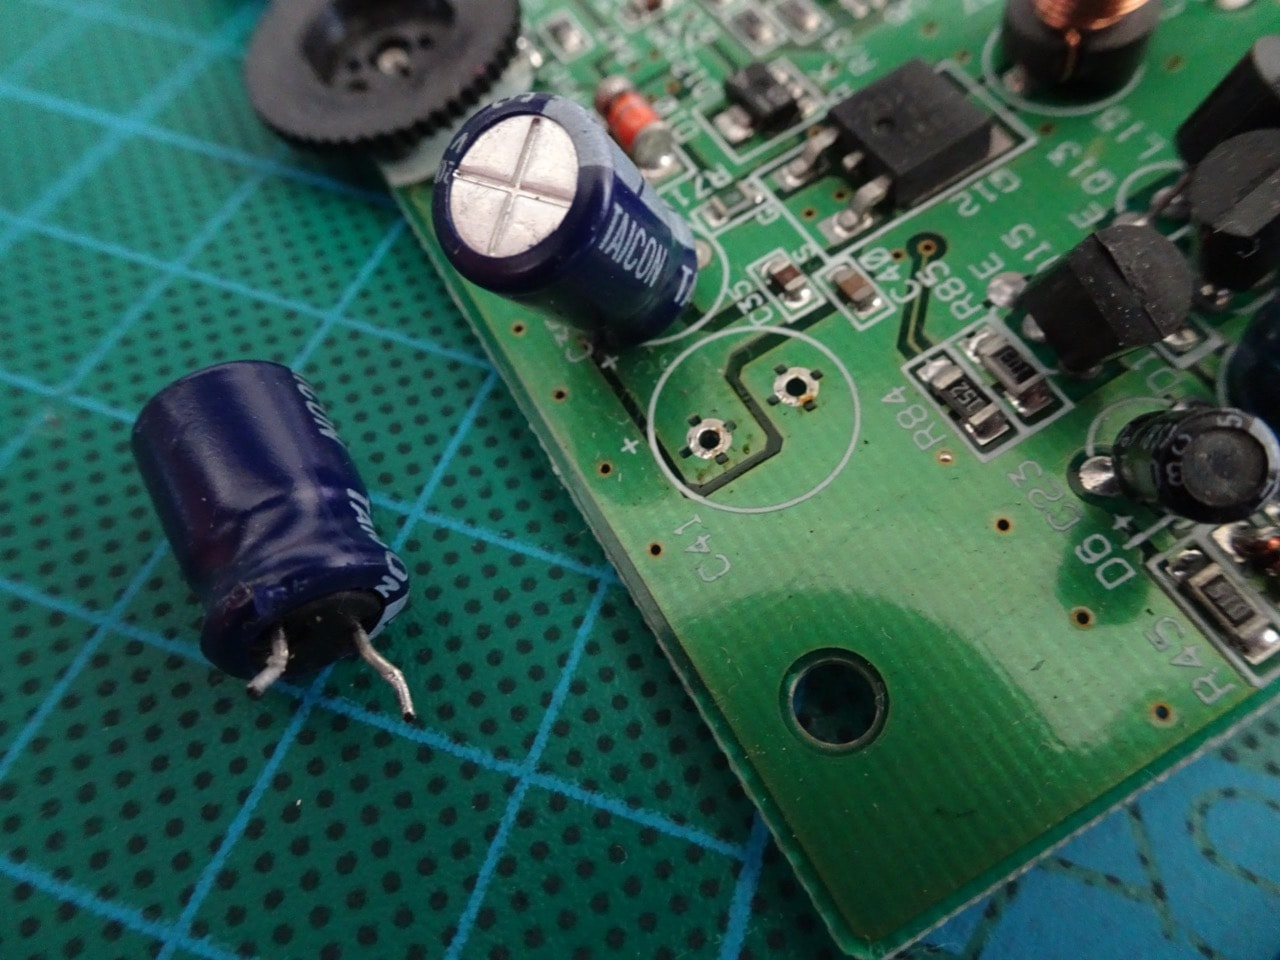capacitor: (134, 358, 412, 674), (430, 92, 703, 343), (1115, 408, 1280, 522)
